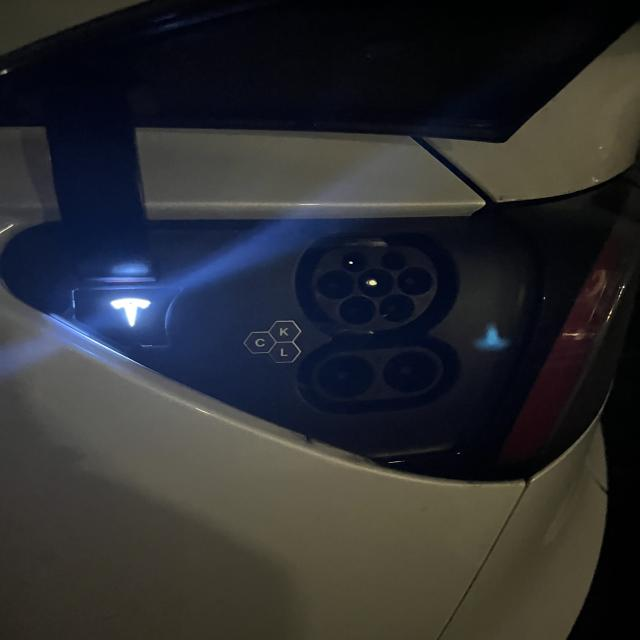inlet: (311, 246, 438, 331)
inlet-above-left: (341, 251, 367, 272)
inlet-above-right: (381, 250, 408, 270)
inlet-below-left: (338, 296, 377, 326)
inlet-below-right: (379, 294, 414, 322)
inlet-circle: (357, 269, 394, 297)
inlet-circle-left: (317, 270, 355, 300)
inlet-circle-right: (396, 267, 433, 296)
inlet-minus: (381, 351, 438, 393)
inlet-plus: (316, 355, 375, 398)
